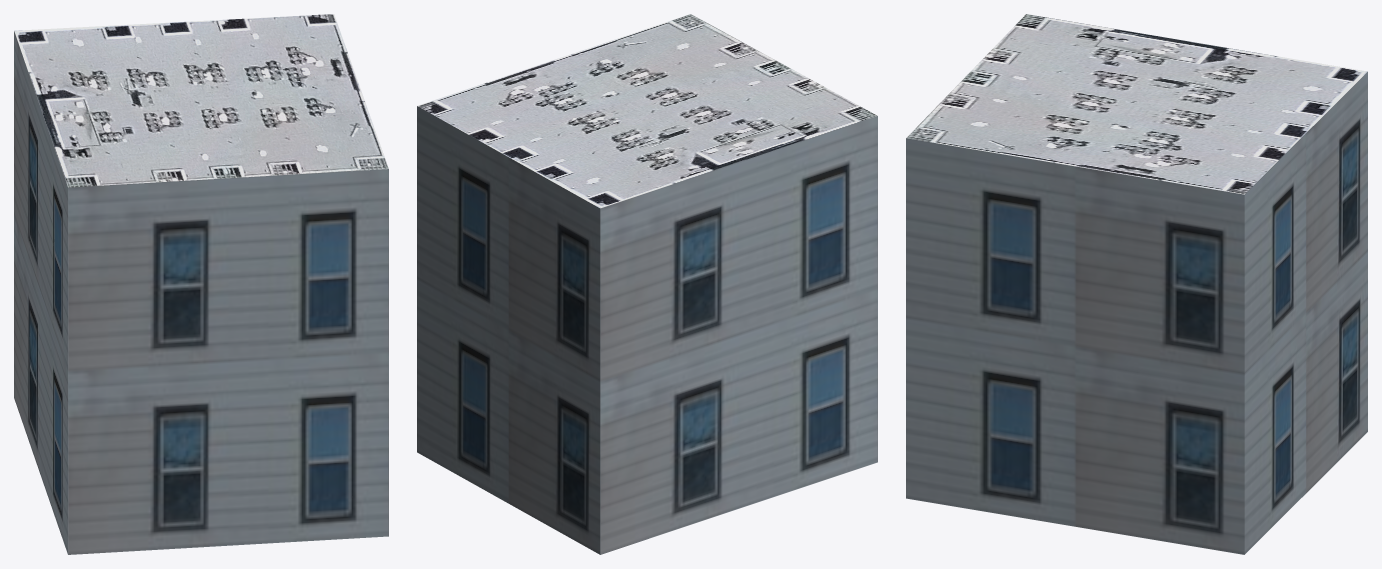
The model's file is ResTex__2589.fbx.
3 views of the same model, side by side, from view 1: azimuth 30°, elevation 25°; view 2: azimuth 150°, elevation 25°; view 3: azimuth 270°, elevation 25° (orthographic). The views are drawn at different scales.
Parts seen in each view (by area): view 1: CityEngineMaterial_18_m, CityEngineMaterial_8_m; view 2: CityEngineMaterial_18_m, CityEngineMaterial_8_m; view 3: CityEngineMaterial_18_m, CityEngineMaterial_8_m.
Boxes of the visible parts, x1,y1,x2,y2 form: CityEngineMaterial_18_m: [14, 31, 388, 554]; CityEngineMaterial_8_m: [14, 14, 388, 187]; CityEngineMaterial_18_m: [417, 106, 877, 554]; CityEngineMaterial_8_m: [417, 14, 877, 208]; CityEngineMaterial_18_m: [906, 72, 1367, 554]; CityEngineMaterial_8_m: [906, 14, 1367, 194].
Bounding box in the file's own units: 6.45 × 6 × 6.97.
2 materials, 2 textured.
